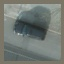car: (12, 20, 49, 42)
